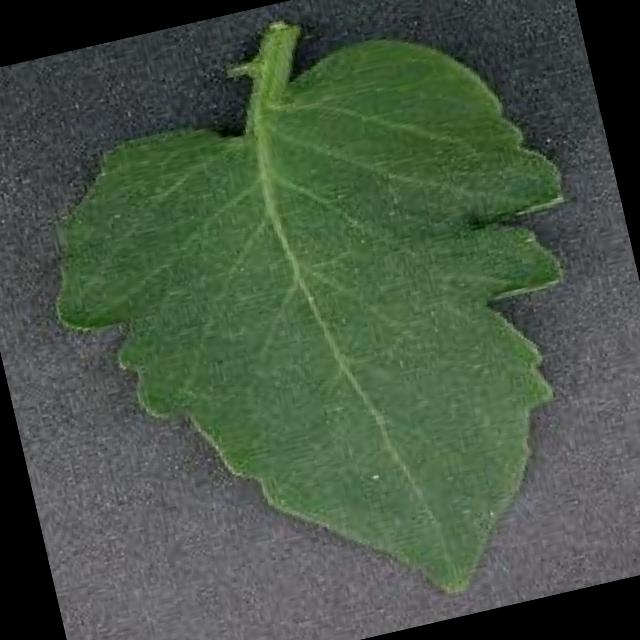healthy: (55, 25, 572, 595)
